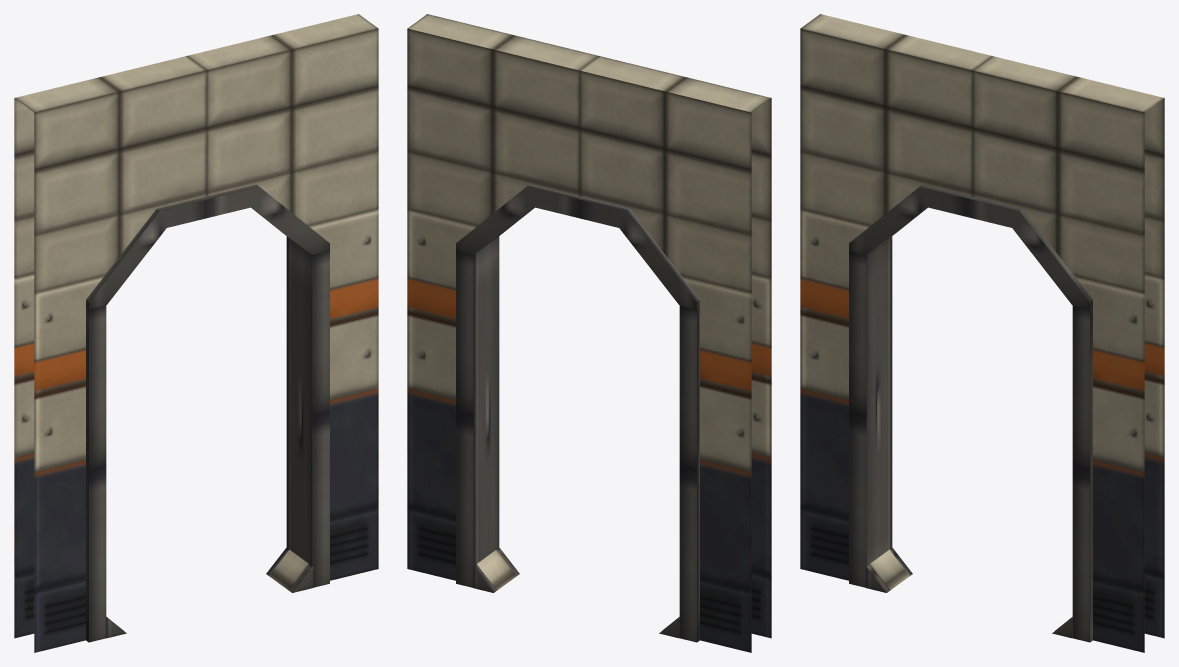
The model's file is wall_doorway_ship.fbx.
The picture shows the model from 3 angles, left to right: view 1: azimuth 30°, elevation 25°; view 2: azimuth 150°, elevation 25°; view 3: azimuth 330°, elevation 25°; orthographic projection.
Visible parts, largest first — view 1: wall_doorway_ship; view 2: wall_doorway_ship; view 3: wall_doorway_ship.
Part boxes in pixels (left/top/right/bottom): wall_doorway_ship: left=14, top=14, right=378, bottom=652; wall_doorway_ship: left=407, top=14, right=771, bottom=652; wall_doorway_ship: left=800, top=14, right=1164, bottom=652.
Size of the model in its own units: 2 by 3 by 0.264.
